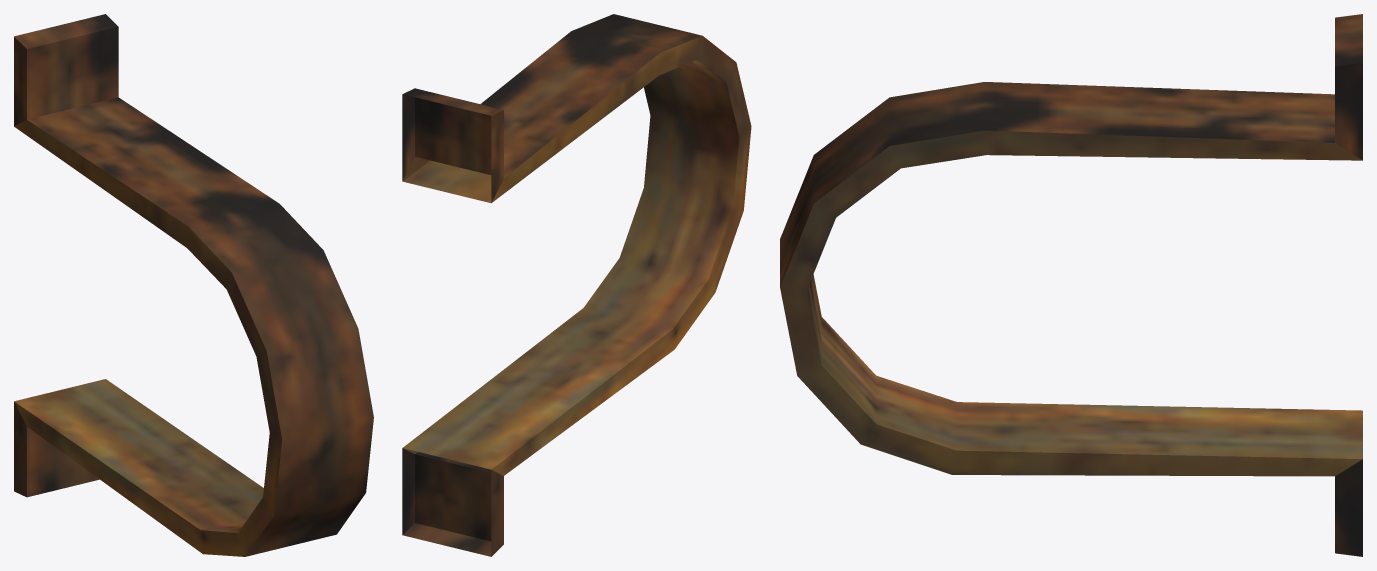
File: Bracket.fbx
3 views of the same model, side by side, from view 1: azimuth 30°, elevation 25°; view 2: azimuth 150°, elevation 25°; view 3: azimuth 270°, elevation 25° (orthographic). The views are drawn at different scales.
Parts seen in each view (by area): view 1: Bracket; view 2: Bracket; view 3: Bracket.
Boxes of the visible parts, x1,y1,x2,y2 form: Bracket: [14, 14, 373, 556]; Bracket: [402, 14, 751, 556]; Bracket: [780, 14, 1362, 556].
Bounding box in the file's own units: 8.46 × 40.07 × 42.83.
